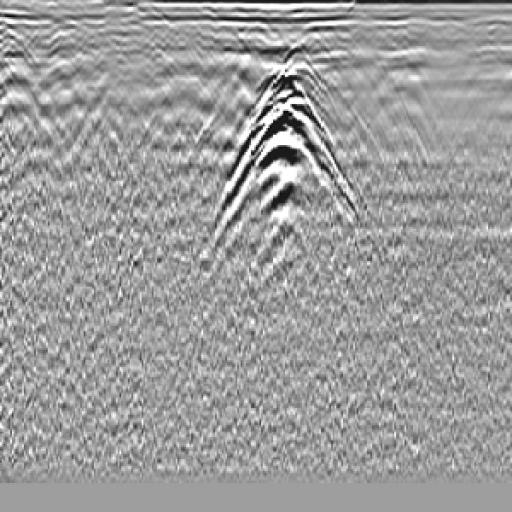metalic: (204, 70, 367, 245)
